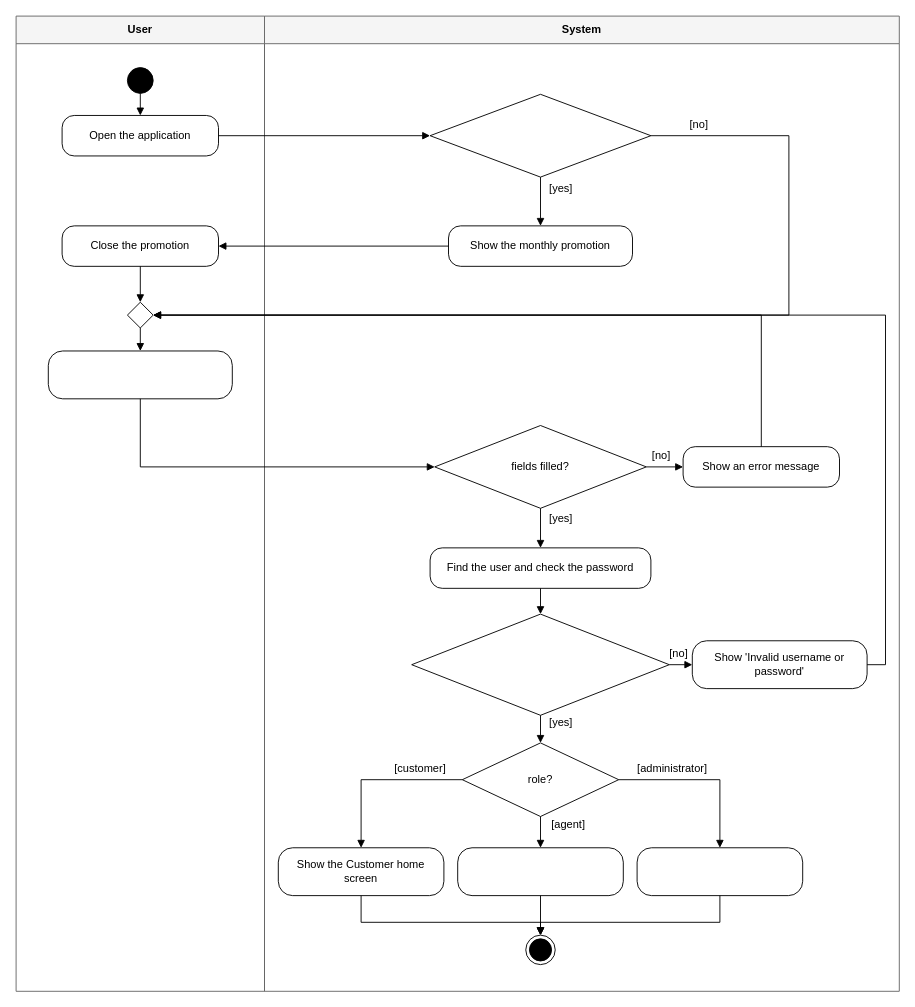
The diagram is 915 pixels wide and 1007 high, and some of its shapes have lost their labels. The shapes that lost their labels are listed below. From the top down, each one's centre as x and y in pixels, then its label:
At pixel 540 135: "first launch this month?".
At pixel 139 374: "Enter username and password".
At pixel 540 664: "user found and password matches?".
At pixel 540 871: "Show the customer list".
At pixel 719 871: "Show the flight list".
